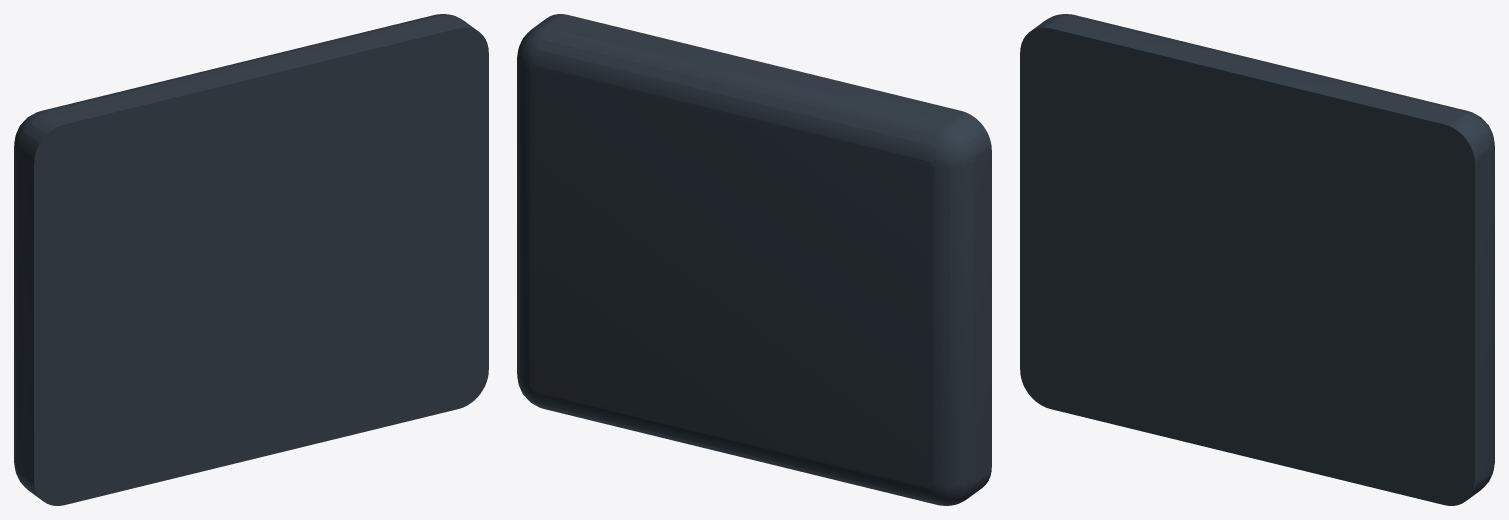
File: original-1.obj
The picture shows the model from 3 angles, left to right: view 1: azimuth 30°, elevation 25°; view 2: azimuth 150°, elevation 25°; view 3: azimuth 330°, elevation 25°; orthographic projection.
Visible parts, largest first — view 1: Group_18/ID4#ID4; view 2: Group_18/ID4#ID4; view 3: Group_18/ID4#ID4.
Part boxes in pixels (bbox=[...]): Group_18/ID4#ID4: bbox=[14, 14, 488, 505]; Group_18/ID4#ID4: bbox=[517, 14, 991, 505]; Group_18/ID4#ID4: bbox=[1020, 14, 1494, 505].
Bounding box in the file's own units: 1.57 × 1.26 × 0.1966.
